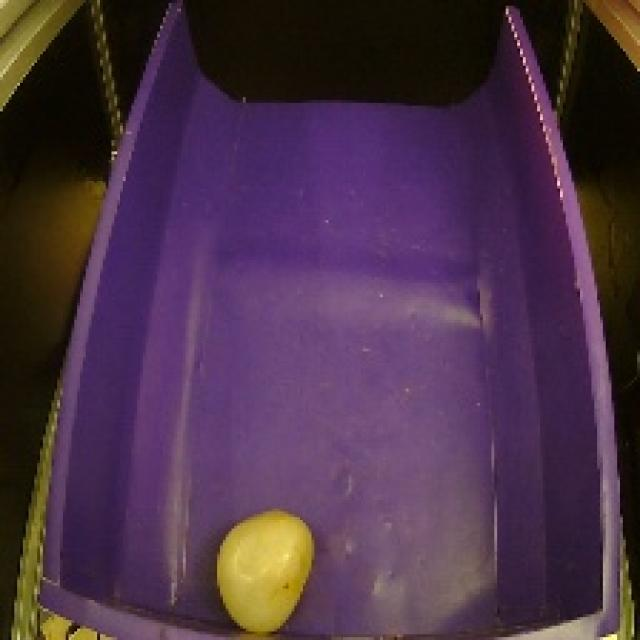cobbles: (204, 498, 321, 640)
